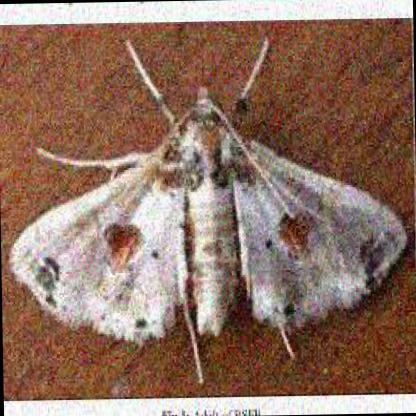leucinodes: (11, 87, 406, 337)
